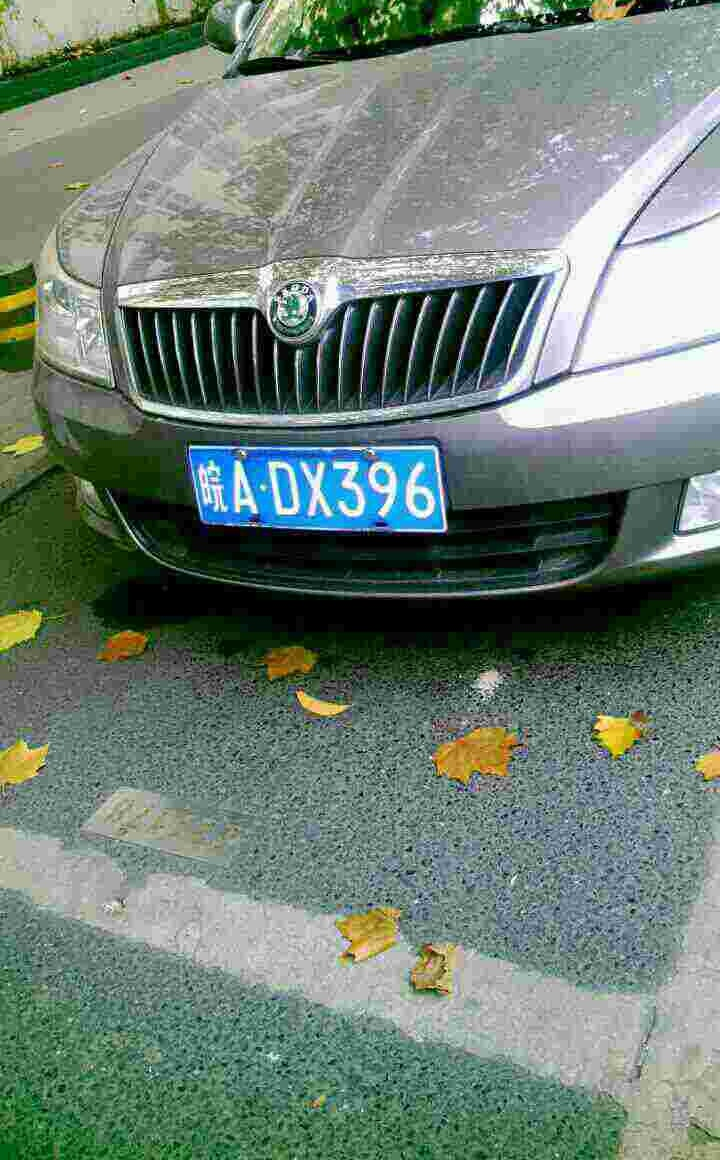license_plate: (193, 452, 466, 541)
